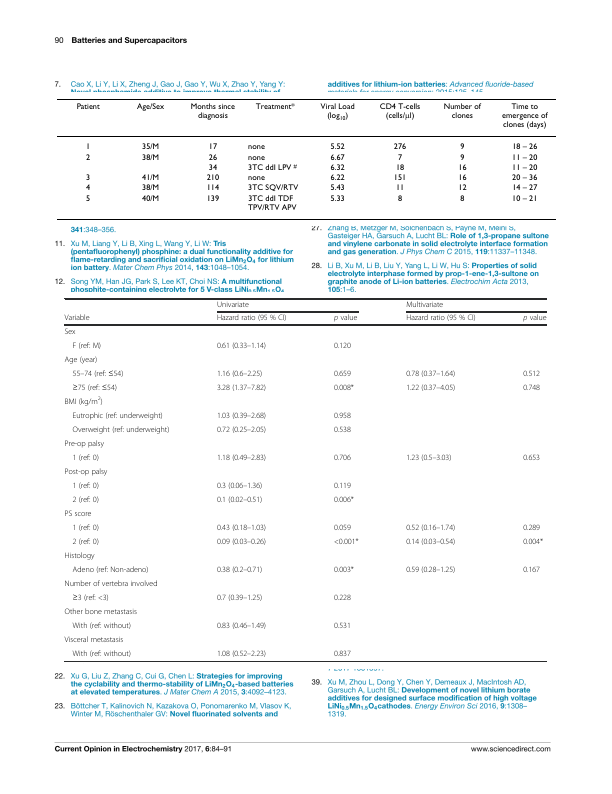borderless: (63, 297, 547, 661), (56, 97, 556, 219)
cell: (500, 101, 548, 130), (71, 425, 170, 435), (247, 193, 297, 212), (378, 100, 421, 122), (64, 579, 158, 589), (71, 411, 164, 421), (189, 101, 235, 120), (71, 565, 149, 575), (319, 101, 355, 122), (442, 101, 481, 120), (64, 607, 138, 617), (405, 314, 477, 324), (216, 314, 287, 324), (71, 621, 132, 631), (71, 649, 132, 659), (64, 635, 124, 645), (71, 369, 124, 379), (247, 183, 299, 193), (216, 341, 267, 351), (405, 369, 456, 379), (216, 383, 267, 393), (405, 383, 456, 393), (216, 411, 267, 421), (216, 425, 267, 435), (216, 453, 267, 463), (216, 523, 267, 533), (405, 523, 456, 533), (216, 537, 267, 547), (405, 537, 456, 547), (405, 565, 456, 575), (216, 621, 267, 631), (216, 649, 267, 659), (247, 162, 297, 172), (216, 369, 263, 379), (71, 383, 118, 393), (405, 453, 452, 463), (216, 481, 263, 491), (216, 495, 263, 505), (216, 565, 263, 575), (216, 593, 263, 603), (64, 396, 104, 407), (64, 467, 108, 477), (254, 101, 295, 111), (64, 439, 105, 449), (71, 593, 110, 603), (405, 301, 444, 310), (64, 355, 98, 365), (71, 341, 102, 351), (64, 551, 95, 561), (216, 301, 250, 310), (135, 101, 165, 111), (71, 453, 100, 463), (71, 481, 100, 491), (71, 495, 100, 505), (71, 523, 100, 533), (71, 537, 100, 547), (64, 509, 92, 519), (511, 142, 538, 152), (511, 152, 538, 162), (511, 173, 538, 183), (511, 183, 538, 193), (511, 193, 538, 203), (333, 537, 360, 547), (64, 314, 90, 324), (75, 101, 100, 111), (333, 314, 358, 324), (522, 314, 547, 324), (511, 163, 538, 172), (333, 383, 355, 393), (333, 495, 355, 505), (522, 537, 544, 547), (333, 565, 355, 575), (141, 142, 160, 152), (141, 152, 160, 162), (141, 173, 160, 183), (141, 183, 160, 193), (141, 193, 160, 203), (333, 341, 352, 351), (333, 369, 352, 379), (522, 369, 541, 379), (522, 383, 541, 393), (333, 411, 352, 421), (333, 425, 352, 435), (333, 453, 352, 463), (522, 453, 541, 463), (333, 481, 352, 491), (333, 523, 352, 533), (522, 523, 541, 533), (522, 565, 541, 575), (333, 593, 352, 603), (333, 621, 352, 631), (333, 649, 352, 659), (247, 142, 265, 152), (247, 152, 265, 162), (247, 173, 265, 183), (329, 142, 345, 152), (329, 152, 345, 162), (329, 173, 345, 183), (329, 183, 345, 193), (329, 193, 345, 203), (392, 142, 407, 152), (205, 173, 220, 183), (392, 173, 407, 183), (205, 183, 220, 193), (205, 193, 220, 203), (329, 163, 345, 172), (64, 327, 76, 337), (207, 142, 218, 152), (207, 152, 218, 162), (394, 183, 405, 193), (457, 173, 467, 183), (457, 183, 467, 193), (207, 163, 218, 172), (394, 163, 405, 172), (457, 163, 467, 172), (396, 152, 403, 162), (396, 193, 403, 203), (85, 142, 91, 152), (459, 142, 465, 152), (85, 152, 91, 162), (459, 152, 465, 162), (85, 173, 91, 183), (85, 183, 91, 193), (85, 193, 91, 203), (459, 193, 465, 203)
